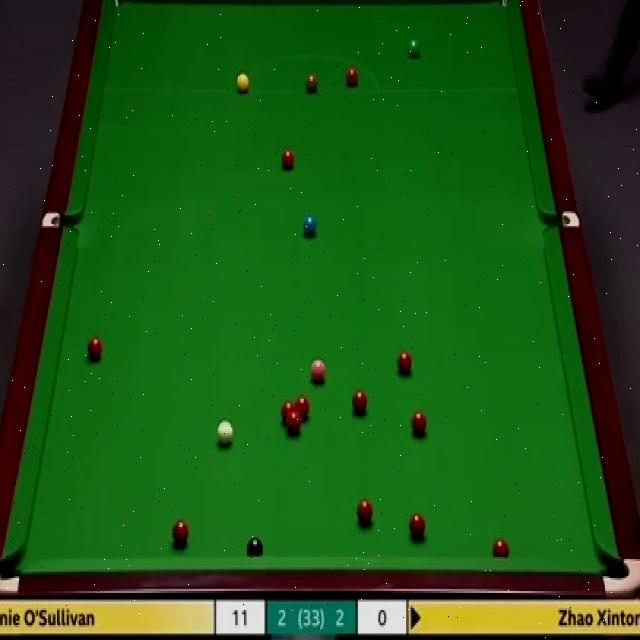black-ball: (246, 537, 265, 559)
blue-ball: (302, 215, 318, 237)
brown-ball: (305, 70, 318, 92)
green-ball: (404, 36, 420, 59)
pink-ball: (310, 359, 327, 386)
red-ball: (407, 512, 427, 540), (171, 520, 191, 547), (356, 496, 372, 526), (397, 349, 414, 377), (87, 337, 102, 366), (279, 147, 296, 172), (280, 401, 296, 427), (352, 388, 368, 414), (411, 411, 425, 440), (492, 536, 510, 558), (296, 396, 310, 422), (287, 414, 303, 436), (344, 66, 357, 89)
white-ball: (215, 419, 236, 444)
yellow-ball: (234, 73, 250, 93)
